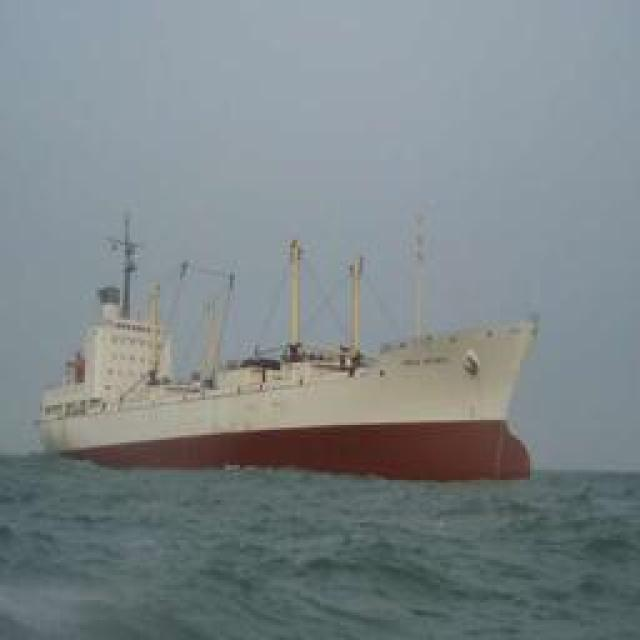ship2: (39, 206, 539, 484)
